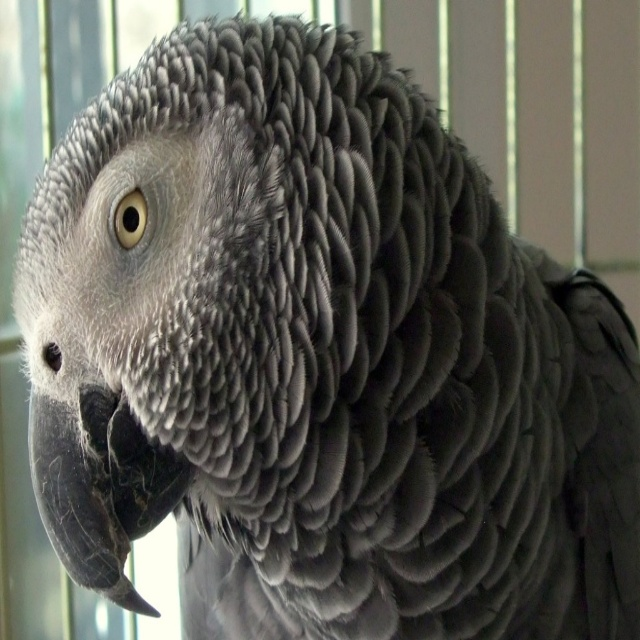Parrot: (10, 6, 640, 640)
